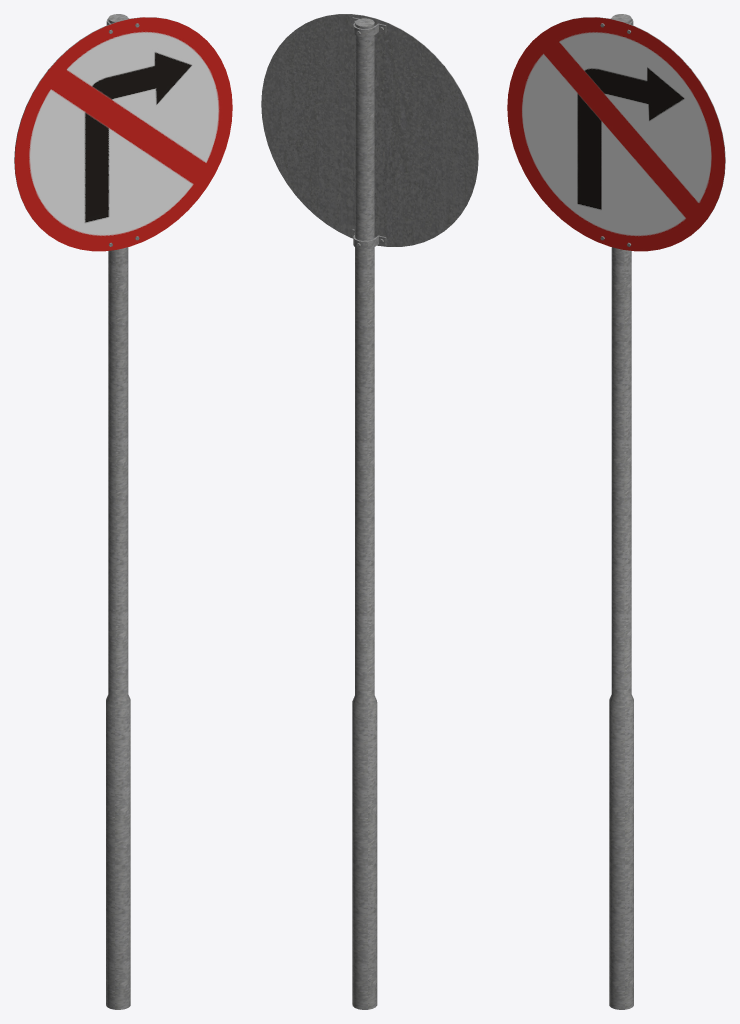
Rendered from noturnright.obj.
The picture shows the model from 3 angles, left to right: view 1: azimuth 30°, elevation 25°; view 2: azimuth 150°, elevation 25°; view 3: azimuth 330°, elevation 25°; orthographic projection.
Visible parts, largest first — view 1: traffic_signs-01.003; view 2: traffic_signs-01.003; view 3: traffic_signs-01.003.
Part boxes in pixels (x1=…): traffic_signs-01.003: x1=14, y1=14, x2=232, y2=1009; traffic_signs-01.003: x1=261, y1=14, x2=478, y2=1009; traffic_signs-01.003: x1=507, y1=14, x2=725, y2=1009.
Bounding box in the file's own units: 1.2 × 5.2 × 0.1237.
2 materials, 2 textured.
